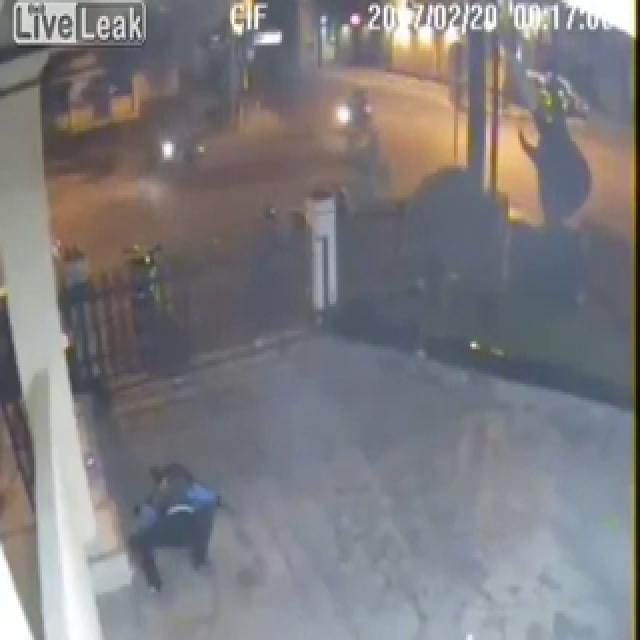road accidents: (248, 0, 460, 368)
